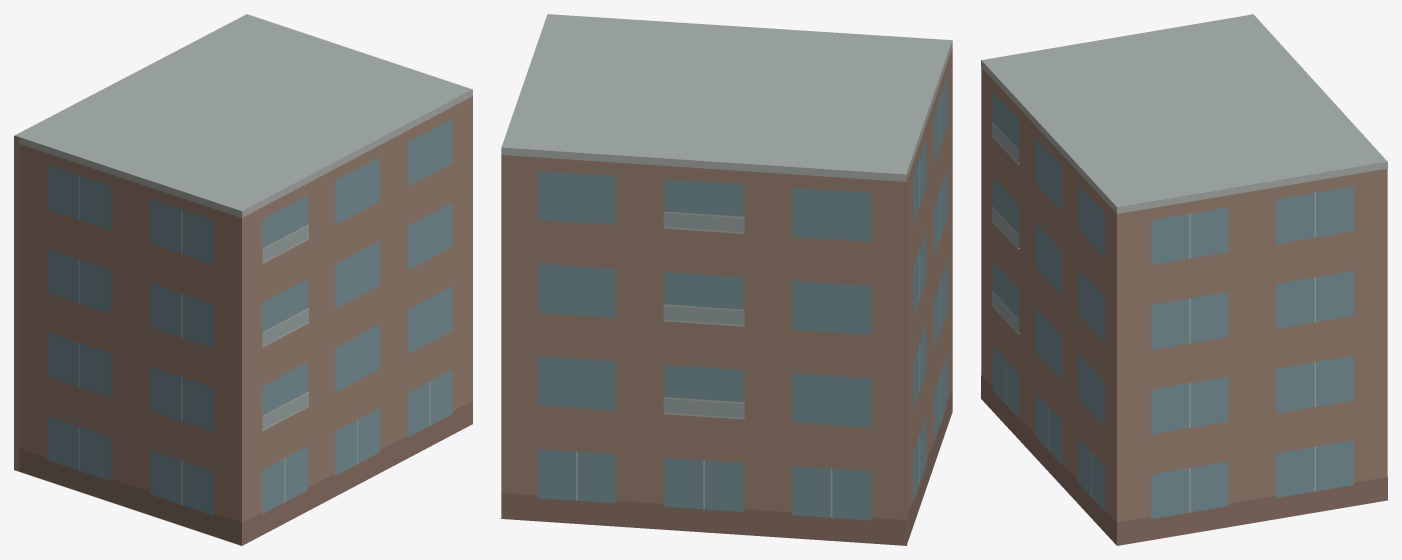
The model's file is survey-upis-32863552.glb.
The picture shows the model from 3 angles, left to right: view 1: azimuth 30°, elevation 25°; view 2: azimuth 150°, elevation 25°; view 3: azimuth 270°, elevation 25°; orthographic projection. The views are drawn at different scales.
Visible parts, largest first — view 1: survey-upis-32863552.tmp; view 2: survey-upis-32863552.tmp; view 3: survey-upis-32863552.tmp.
Part boxes in pixels (box(x1,y1,x2,y2)): survey-upis-32863552.tmp: box(14, 14, 472, 545); survey-upis-32863552.tmp: box(501, 14, 952, 545); survey-upis-32863552.tmp: box(981, 14, 1387, 545).
Bounding box in the file's own units: 14.94 × 12.2 × 13.29.
